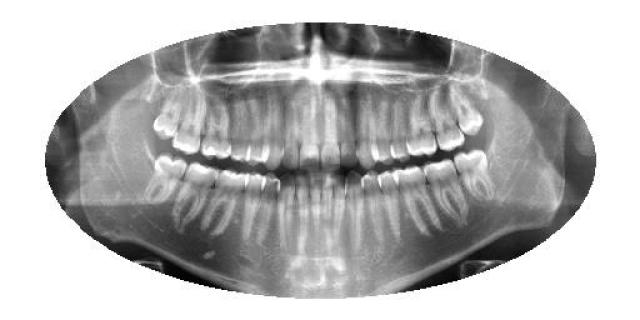Fillings: (200, 104, 232, 162)
